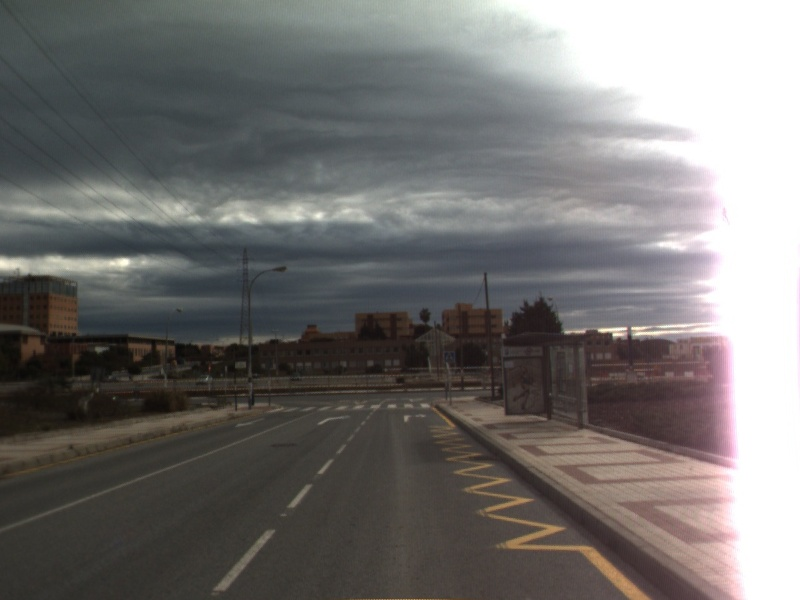RIGHT: (315, 412, 353, 427), (401, 411, 429, 424)
